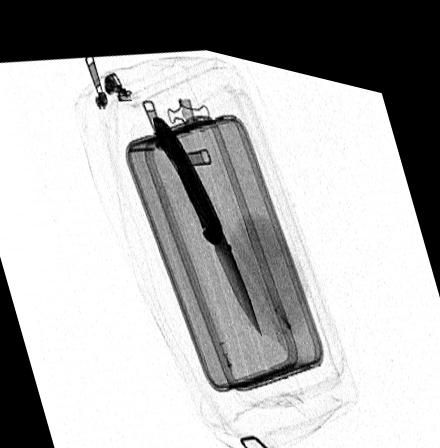Knife: (150, 107, 261, 322)
